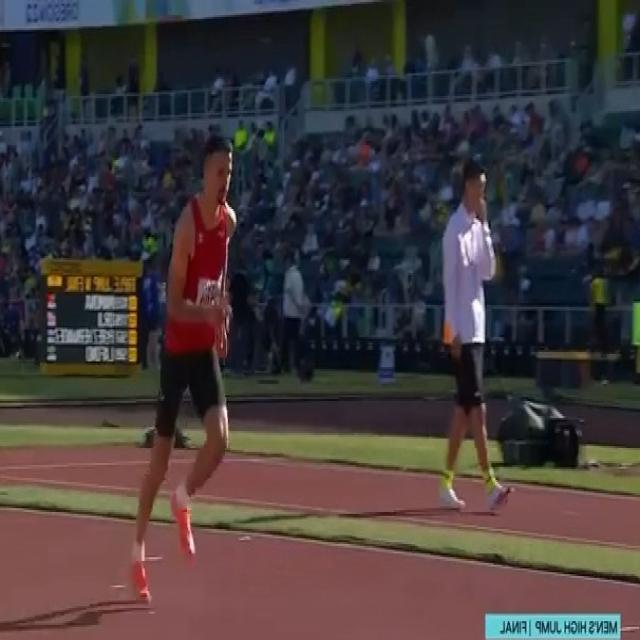run: (128, 129, 244, 609)
